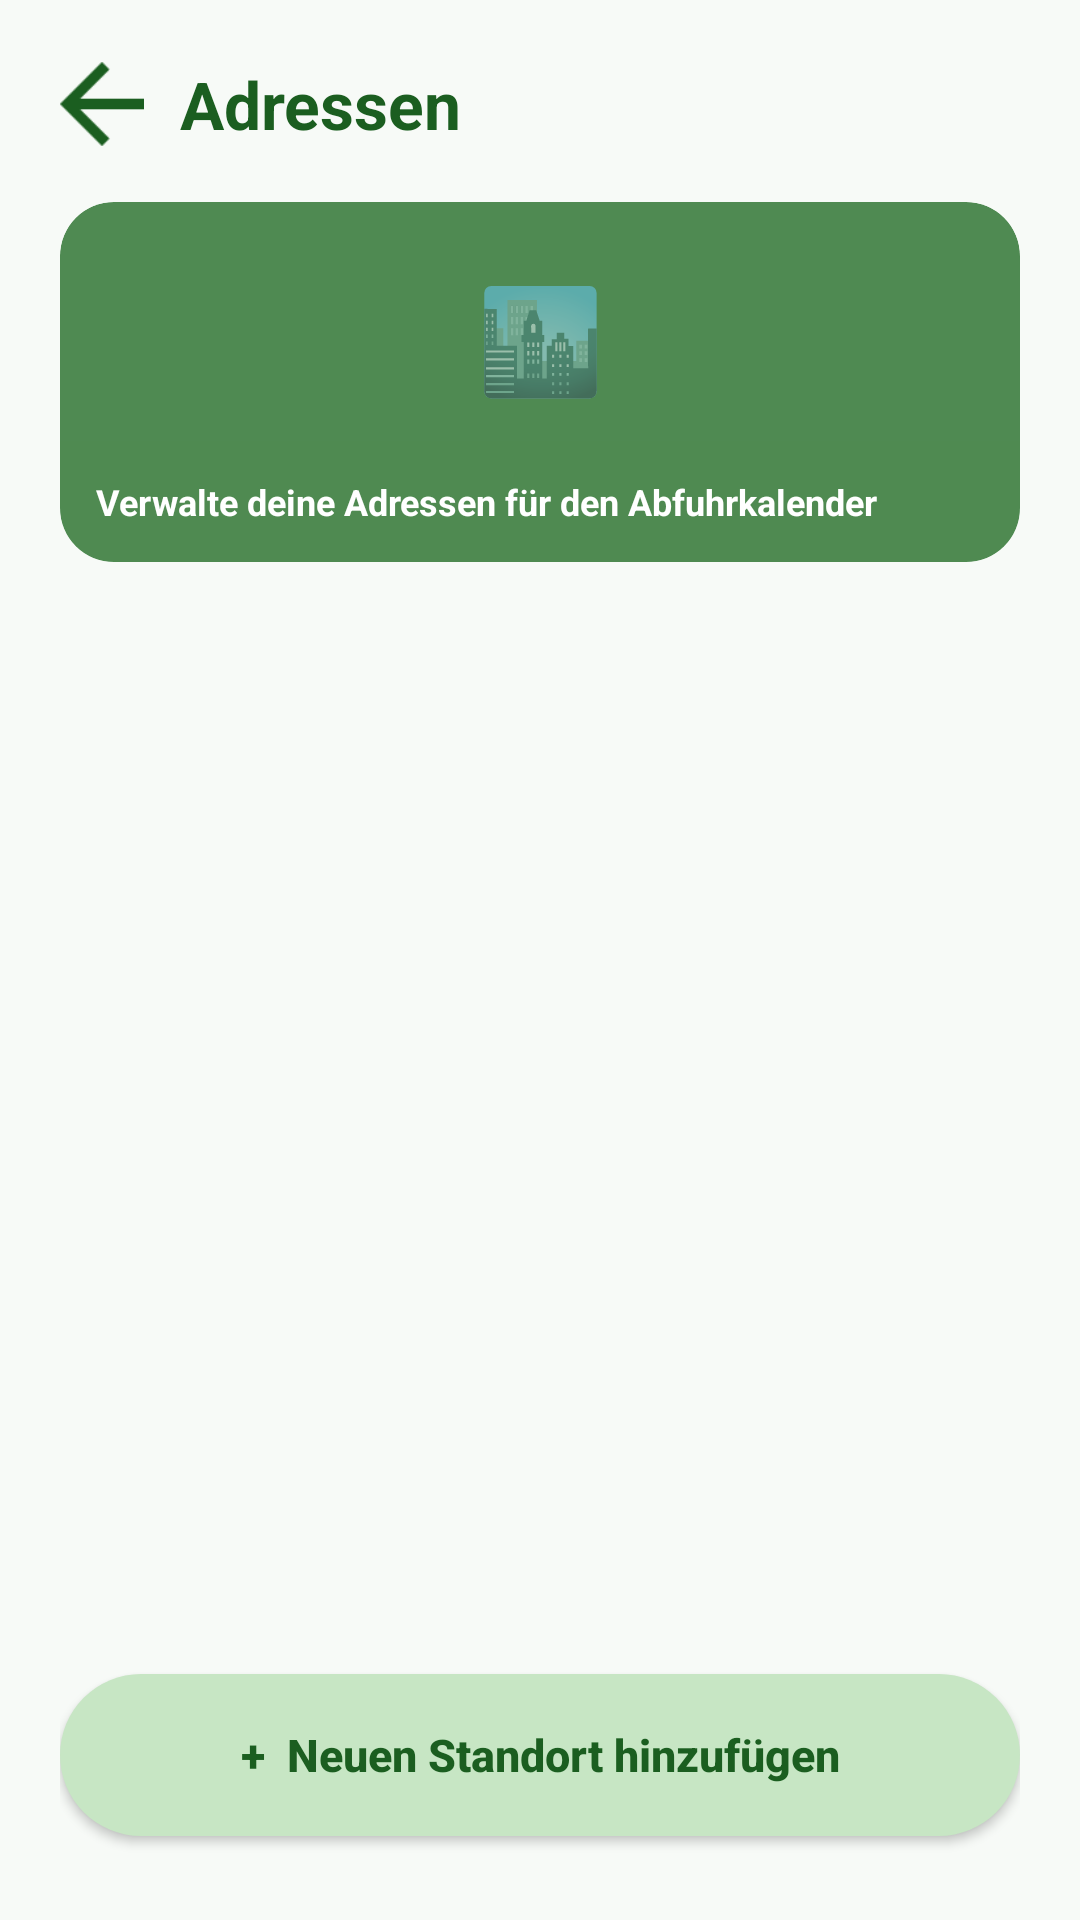

Where to tap for icons on this 1080px×1920px app screen, as point (x, y):
Zurück: point (102, 104)
